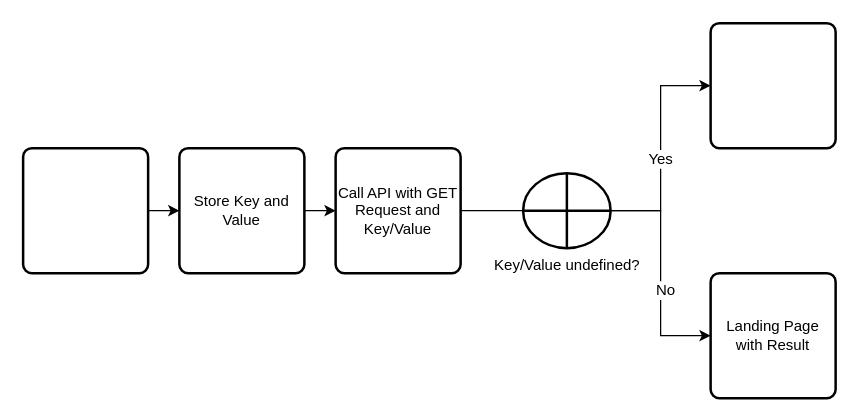
Some shapes in this 858 by 420 pixel diagram are drawn without their labels. The shapes that lost their labels are listed below. From the top down, each one's centre as x and y in pixels, then its label:
(x=772, y=85): Error Landing Page
(x=85, y=210): Click Client Button
